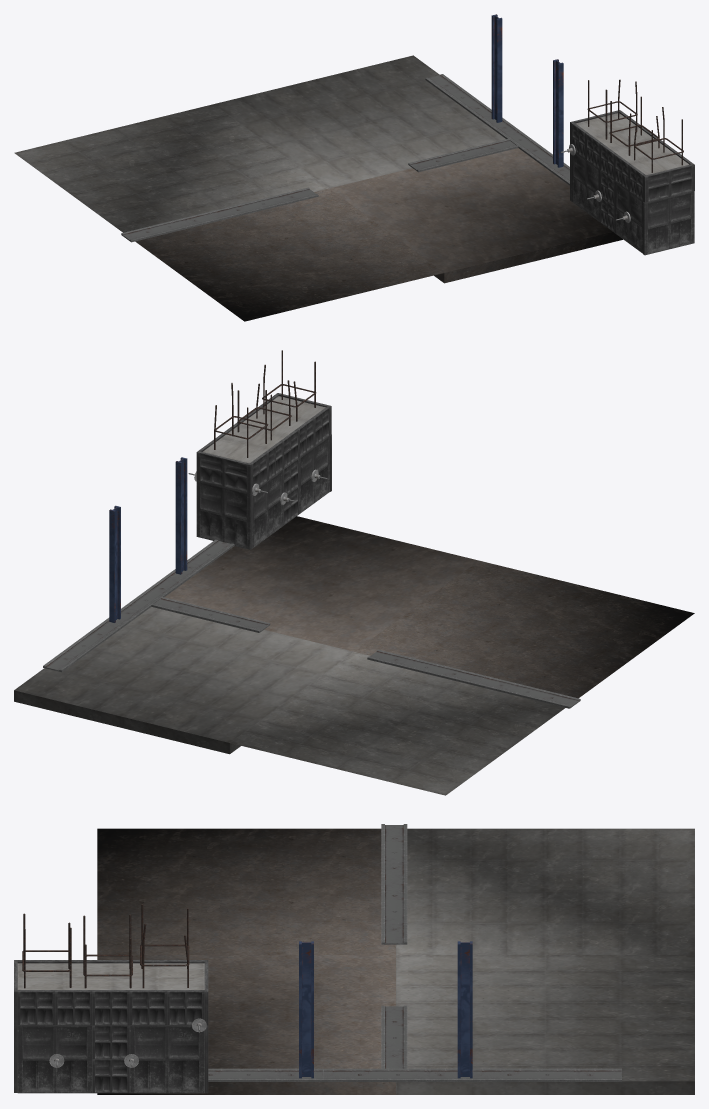
Rendered from BuildingMap_0_1.gltf.
3 renders of one model, top to bottom at view 1: azimuth 30°, elevation 25°; view 2: azimuth 150°, elevation 25°; view 3: azimuth 270°, elevation 25°, orthographic. The views are drawn at different scales.
Visible parts, largest first — view 1: SM_Floors_Plain_8, SM_Floors_Plain_20, SM_Floors_Thick_119, SM_Floors_Thick_118, SM_Floors_Plain_2, StaticMeshComponent9, StaticMeshComponent10, StaticMeshComponent11, SM_Exterior_1__Concrete_Cast_29, SM_Building_Pieces_2_SteelRudder133, SM_Building_Pieces_2_MetalBorder49, SM_Building_Pieces_2_MetalBorder51 (+7 smaller); view 2: SM_Floors_Thick_118, SM_Floors_Plain_20, SM_Floors_Plain_8, SM_Floors_Thick_119, SM_Floors_Plain_2, StaticMeshComponent8, StaticMeshComponent11, SM_Exterior_1__Concrete_Cast_28, StaticMeshComponent10, SM_Building_Pieces_2_SteelRudder131, SM_Building_Pieces_2_MetalBorder49, SM_Building_Pieces_2_MetalBorder51 (+5 smaller); view 3: SM_Floors_Thick_118, SM_Floors_Plain_20, SM_Floors_Plain_8, SM_Floors_Thick_119, StaticMeshComponent6, StaticMeshComponent7, SM_Floors_Plain_2, SM_Building_Pieces_2_SteelRudder133, SM_Building_Pieces_2_MetalBorder39, SM_Building_Pieces_2_SteelRudder131, SM_Building_Pieces_2_MetalBorder40, SM_Building_Pieces_2_MetalBorder51 (+13 smaller).
Part boxes in pixels (<box>): SM_Floors_Plain_8: <box>135,188,443,321</box>; SM_Floors_Plain_20: <box>14,104,328,232</box>; SM_Floors_Thick_119: <box>329,148,622,283</box>; SM_Floors_Thick_118: <box>214,55,505,188</box>; SM_Floors_Plain_2: <box>575,113,688,175</box>; StaticMeshComponent9: <box>643,191,694,255</box>; StaticMeshComponent10: <box>614,181,643,253</box>; StaticMeshComponent11: <box>571,152,600,221</box>; SM_Exterior_1__Concrete_Cast_29: <box>643,164,694,202</box>; SM_Building_Pieces_2_SteelRudder133: <box>491,14,502,122</box>; SM_Building_Pieces_2_MetalBorder49: <box>408,139,518,172</box>; SM_Building_Pieces_2_MetalBorder51: <box>209,187,318,220</box>; SM_Floors_Thick_118: <box>14,607,353,754</box>; SM_Floors_Plain_20: <box>230,652,564,795</box>; SM_Floors_Plain_8: <box>355,560,694,698</box>; SM_Floors_Thick_119: <box>164,516,478,651</box>; SM_Floors_Plain_2: <box>203,396,325,463</box>; StaticMeshComponent8: <box>196,480,252,549</box>; StaticMeshComponent11: <box>252,470,283,548</box>; SM_Exterior_1__Concrete_Cast_28: <box>196,451,252,493</box>; StaticMeshComponent10: <box>299,435,329,514</box>; SM_Building_Pieces_2_SteelRudder131: <box>175,457,187,574</box>; SM_Building_Pieces_2_MetalBorder49: <box>151,597,270,632</box>; SM_Building_Pieces_2_MetalBorder51: <box>367,649,485,685</box>; SM_Floors_Thick_118: <box>396,955,694,1094</box>; SM_Floors_Plain_20: <box>396,828,694,954</box>; SM_Floors_Plain_8: <box>97,828,395,954</box>; SM_Floors_Thick_119: <box>97,955,395,1094</box>; StaticMeshComponent6: <box>17,1025,92,1093</box>; StaticMeshComponent7: <box>129,1025,204,1093</box>; SM_Floors_Plain_2: <box>17,963,204,989</box>; SM_Building_Pieces_2_SteelRudder133: <box>457,941,472,1078</box>; SM_Building_Pieces_2_MetalBorder39: <box>472,1068,621,1081</box>; SM_Building_Pieces_2_SteelRudder131: <box>299,941,313,1078</box>; SM_Building_Pieces_2_MetalBorder40: <box>323,1068,472,1081</box>; SM_Building_Pieces_2_MetalBorder51: <box>381,879,407,944</box>.
Bounding box in the file's own units: 17.33 × 5.24 × 18.23.
7 materials, 7 textured.
